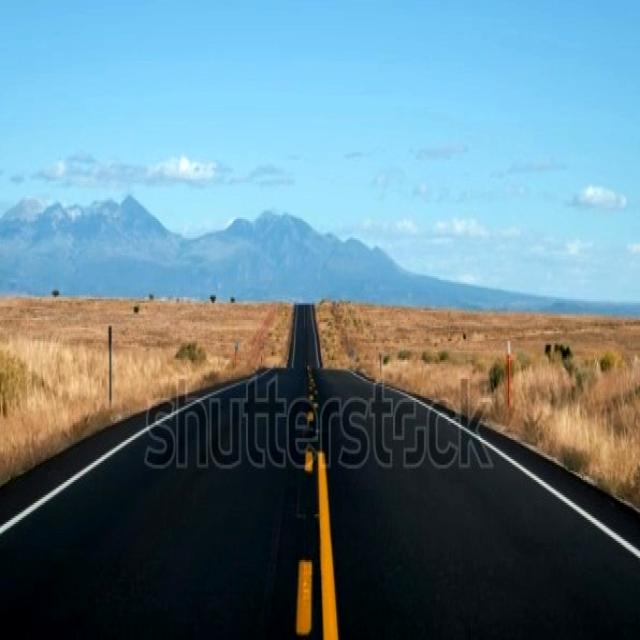lane: (318, 451, 337, 638), (296, 560, 311, 634)
